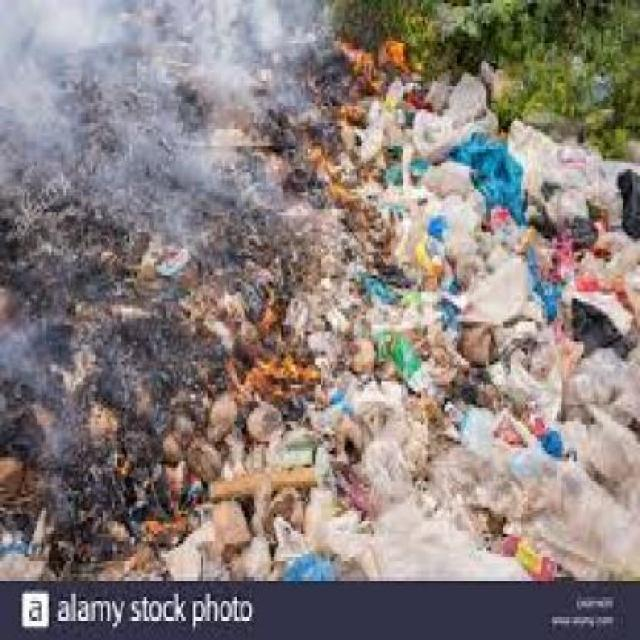garbage: (290, 80, 639, 561), (128, 391, 614, 570)
